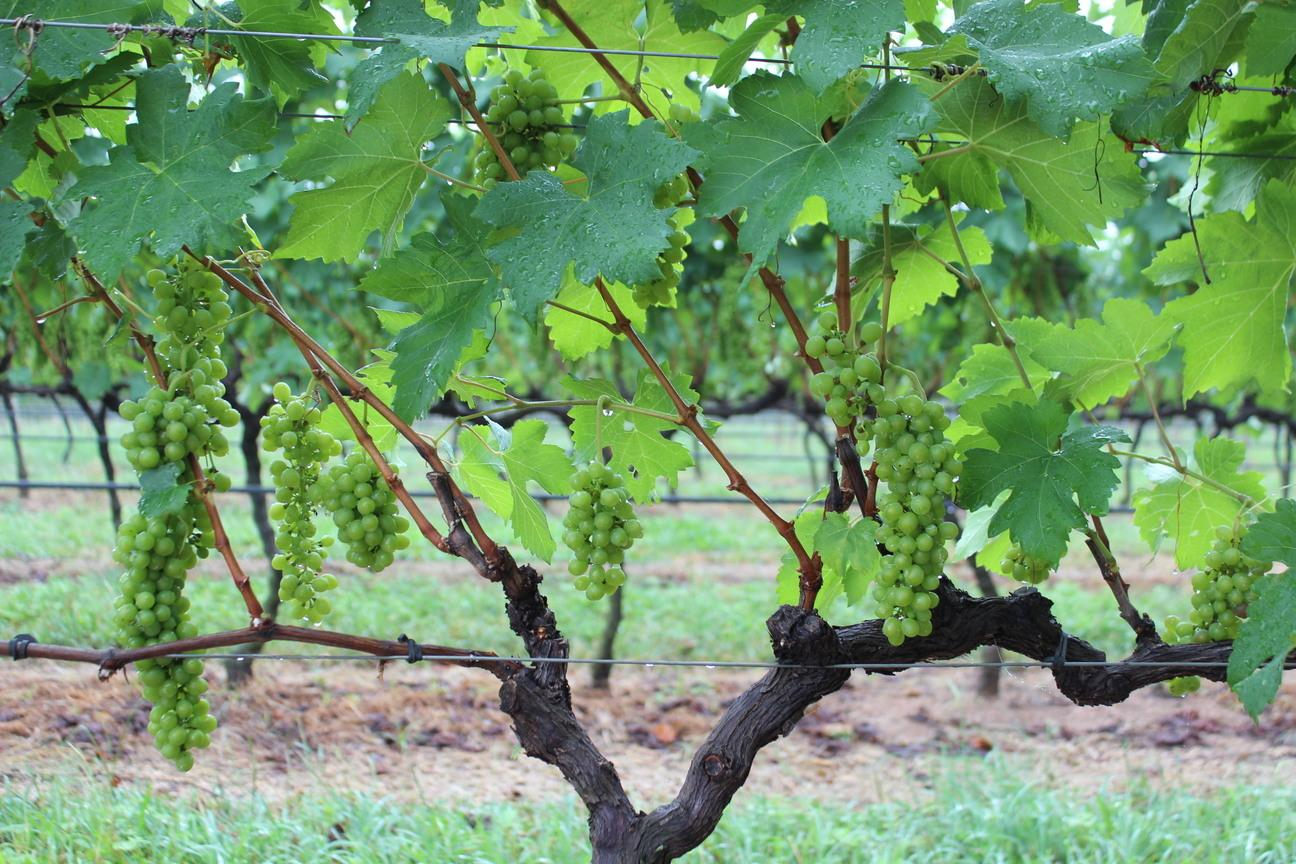leaf: (686, 71, 934, 264), (475, 110, 695, 324), (67, 64, 273, 279), (918, 78, 1145, 244), (1145, 180, 1295, 395), (276, 75, 448, 260), (361, 194, 499, 421), (949, 0, 1157, 136), (959, 399, 1127, 565), (343, 0, 510, 129), (1133, 437, 1264, 568), (1026, 298, 1173, 407), (459, 418, 571, 561), (1227, 500, 1295, 718), (766, 0, 903, 93), (569, 405, 692, 502), (888, 221, 960, 325), (229, 35, 325, 103), (812, 513, 879, 603), (230, 0, 337, 33), (137, 461, 192, 518), (852, 229, 884, 291), (631, 369, 673, 413), (561, 376, 623, 403), (959, 225, 990, 264), (671, 375, 696, 403), (923, 82, 939, 91), (1013, 329, 1023, 340)
